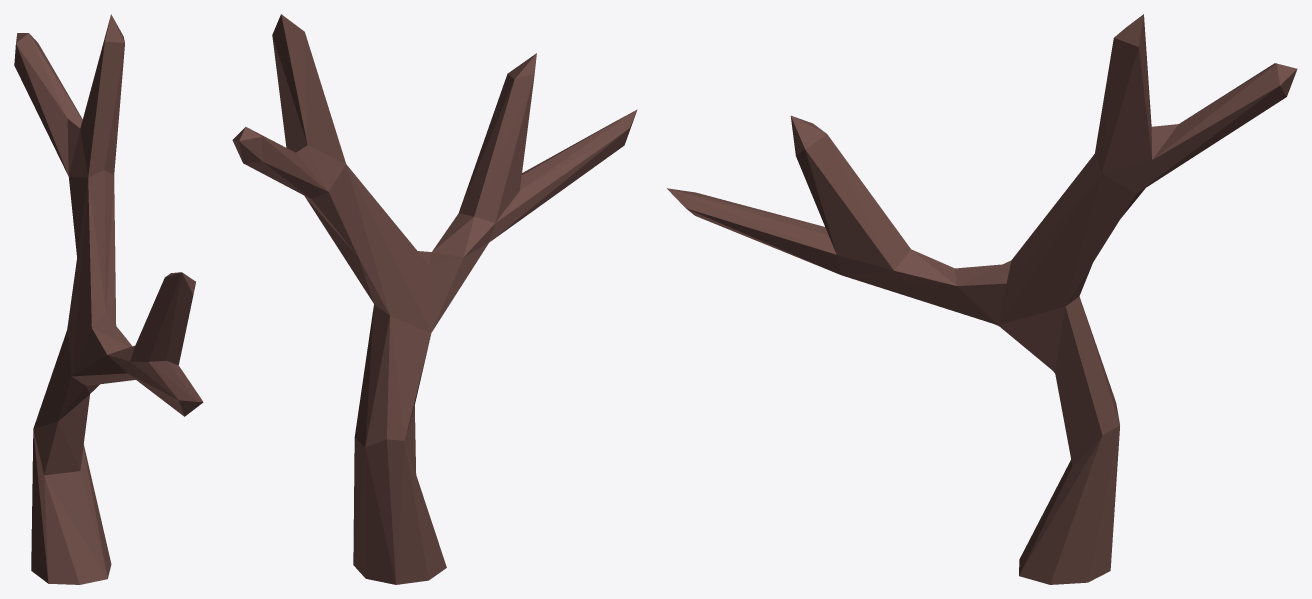
The model's file is Willow_Dead_5.lod2.glb.
The picture shows the model from 3 angles, left to right: view 1: azimuth 30°, elevation 25°; view 2: azimuth 150°, elevation 25°; view 3: azimuth 270°, elevation 25°; orthographic projection. The views are drawn at different scales.
Visible parts, largest first — view 1: Willow_Dead_5; view 2: Willow_Dead_5; view 3: Willow_Dead_5.
Part boxes in pixels (bbox=[...]): Willow_Dead_5: bbox=[14, 14, 203, 584]; Willow_Dead_5: bbox=[232, 14, 637, 584]; Willow_Dead_5: bbox=[667, 14, 1297, 584].
Bounding box in the file's own units: 0.5607 × 2.03 × 1.95.
